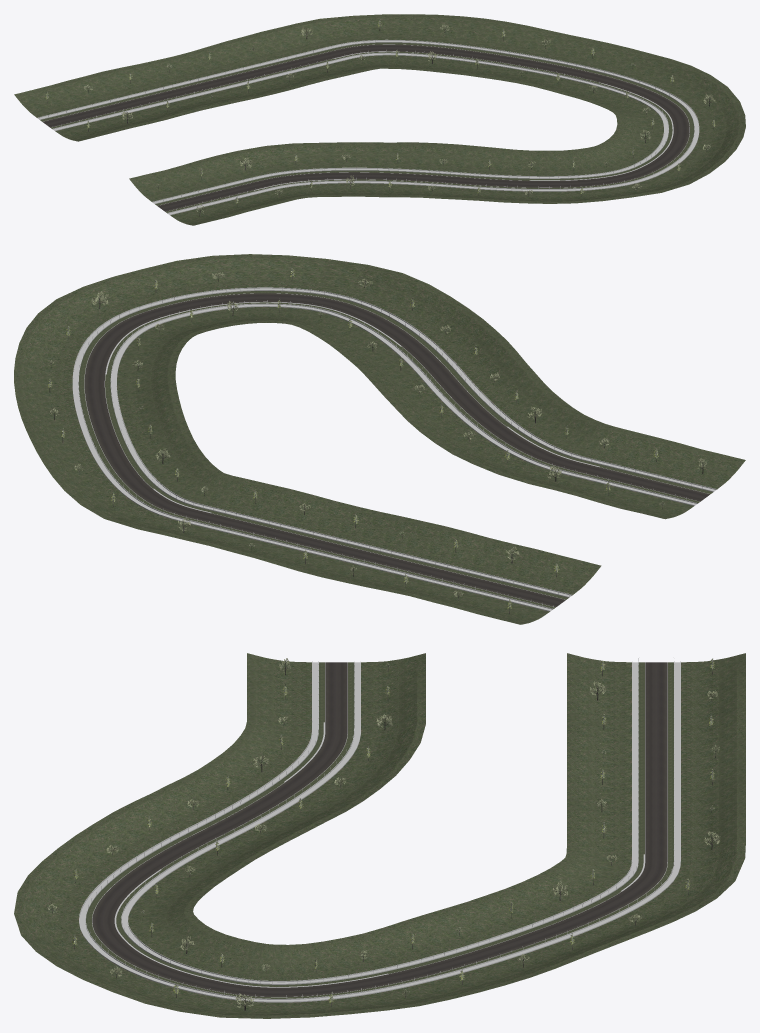
The picture shows the model from 3 angles, top to bottom: view 1: azimuth 30°, elevation 25°; view 2: azimuth 150°, elevation 25°; view 3: azimuth 270°, elevation 25°; orthographic projection. The views are drawn at different scales.
Parts seen in each view (by area): view 1: Grass, Track, Road, Trees; view 2: Grass, Road, Track, Trees; view 3: Grass, Road, Track, Trees.
Boxes of the visible parts, left/top/right/bottom form: Grass: left=14, top=14, right=745, bottom=225; Track: left=37, top=39, right=699, bottom=215; Road: left=42, top=44, right=689, bottom=211; Trees: left=45, top=19, right=715, bottom=216; Grass: left=14, top=254, right=745, bottom=624; Road: left=84, top=293, right=709, bottom=607; Track: left=72, top=287, right=716, bottom=611; Trees: left=48, top=267, right=706, bottom=613; Grass: left=14, top=653, right=745, bottom=1018; Road: left=92, top=662, right=667, bottom=996; Track: left=79, top=658, right=680, bottom=1002; Trees: left=46, top=658, right=720, bottom=1010.
Size of the model in its own units: 68016 by 1904 by 57209.
